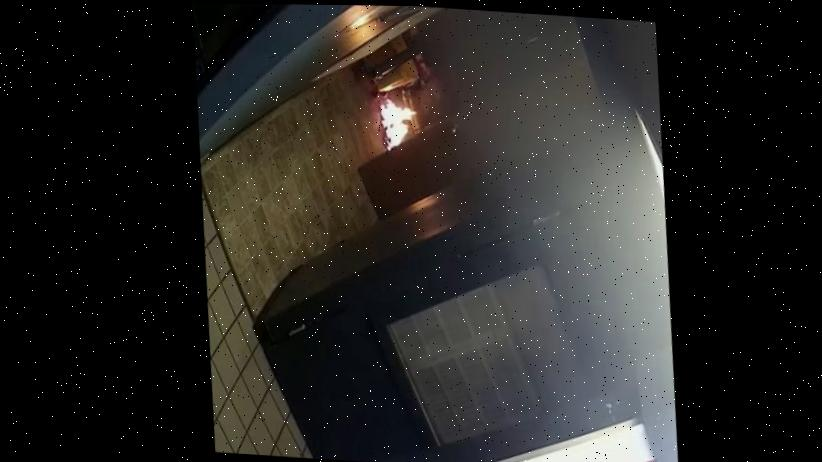fire: (350, 46, 435, 169)
